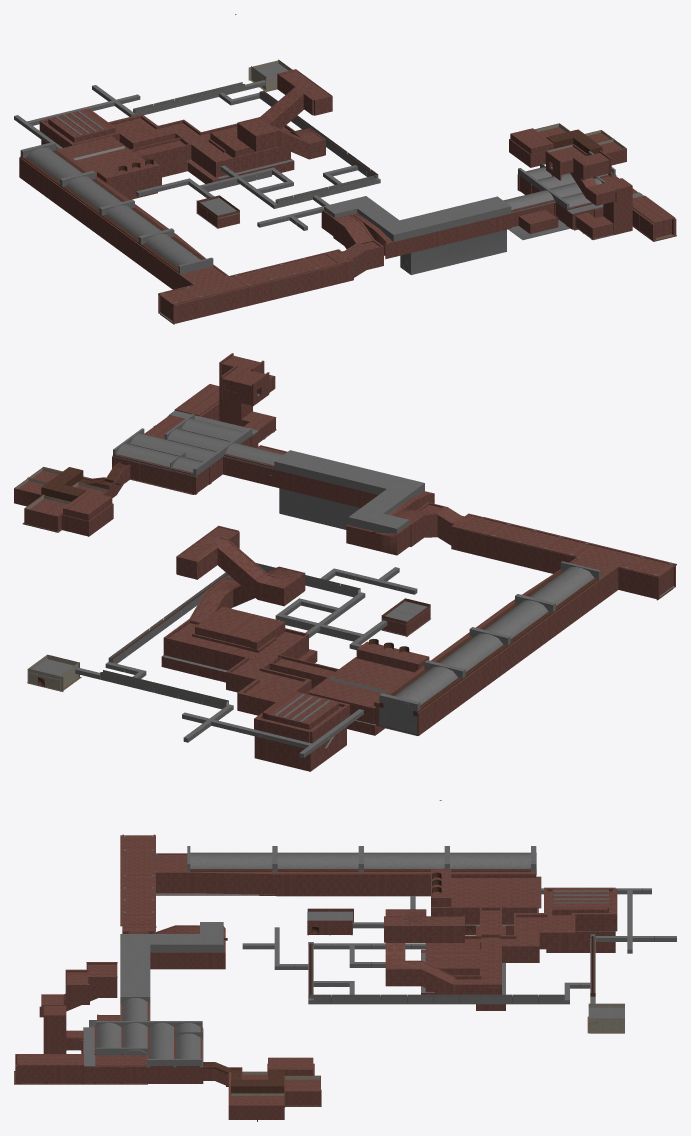
The model's file is PidvalV2.fbx.
3 views of the same model, one above another, from view 1: azimuth 30°, elevation 25°; view 2: azimuth 150°, elevation 25°; view 3: azimuth 270°, elevation 25° (orthographic). The views are drawn at different scales.
Visible parts, largest first — view 1: Cube.059, Куб.084, Куб.075, Куб.082, Куб.083, Куб.077, Куб.064, Куб.078, Куб.070, Куб.011, Куб.068, Куб.065 (+17 smaller); view 2: Куб.075, Cube.059, Куб.083, Куб.082, Куб.064, Куб.078, Куб.011, Куб.063, Куб.084, Куб.070, Куб.088, Куб.080 (+21 smaller); view 3: Куб.075, Cube.059, Куб.078, Куб.082, Куб.083, Куб.064, Куб.070, Куб.084, Куб.080, Куб.011, Куб.037, Куб.087 (+23 smaller).
Part boxes in pixels (x1=…): Cube.059: x1=14, y1=80, x2=380, y2=230; Куб.084: x1=97, y1=69, x2=332, y2=197; Куб.075: x1=19, y1=148, x2=342, y2=313; Куб.082: x1=46, y1=109, x2=278, y2=161; Куб.083: x1=39, y1=73, x2=325, y2=158; Куб.077: x1=172, y1=257, x2=353, y2=324; Куб.064: x1=324, y1=196, x2=511, y2=241; Куб.078: x1=27, y1=147, x2=200, y2=267; Куб.070: x1=158, y1=254, x2=342, y2=306; Куб.011: x1=20, y1=14, x2=341, y2=310; Куб.068: x1=400, y1=219, x2=570, y2=274; Куб.065: x1=349, y1=202, x2=555, y2=259; Куб.075: x1=374, y1=519, x2=659, y2=735; Cube.059: x1=75, y1=563, x2=417, y2=757; Куб.083: x1=163, y1=546, x2=373, y2=743; Куб.082: x1=195, y1=606, x2=342, y2=730; Куб.064: x1=274, y1=450, x2=424, y2=533; Куб.078: x1=383, y1=567, x2=593, y2=711; Куб.011: x1=165, y1=475, x2=675, y2=749; Куб.063: x1=223, y1=457, x2=410, y2=555; Куб.084: x1=176, y1=525, x2=429, y2=672; Куб.070: x1=465, y1=517, x2=676, y2=578; Куб.088: x1=161, y1=649, x2=384, y2=771; Куб.080: x1=307, y1=657, x2=413, y2=708; Куб.075: x1=127, y1=834, x2=536, y2=933; Cube.059: x1=242, y1=888, x2=676, y2=1004; Куб.078: x1=190, y1=852, x2=536, y2=868; Куб.082: x1=427, y1=887, x2=612, y2=975; Куб.083: x1=385, y1=887, x2=617, y2=995; Куб.064: x1=120, y1=922, x2=223, y2=1004; Куб.070: x1=120, y1=835, x2=187, y2=926; Куб.084: x1=384, y1=869, x2=503, y2=992; Куб.080: x1=449, y1=876, x2=541, y2=908; Куб.011: x1=124, y1=800, x2=608, y2=983; Куб.037: x1=22, y1=1066, x2=146, y2=1083; Куб.087: x1=386, y1=910, x2=461, y2=989.
Size of the model in its own units: 22161 by 7211 by 23067.
